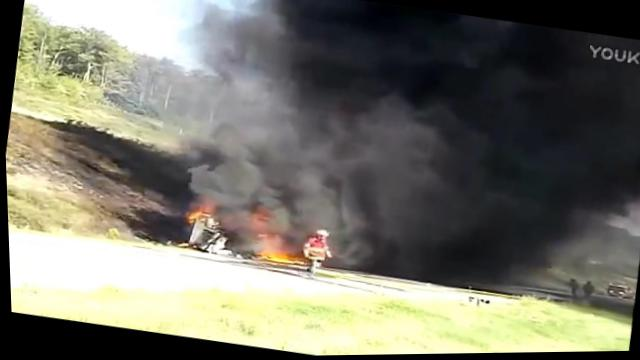fire: (257, 247, 294, 265)
